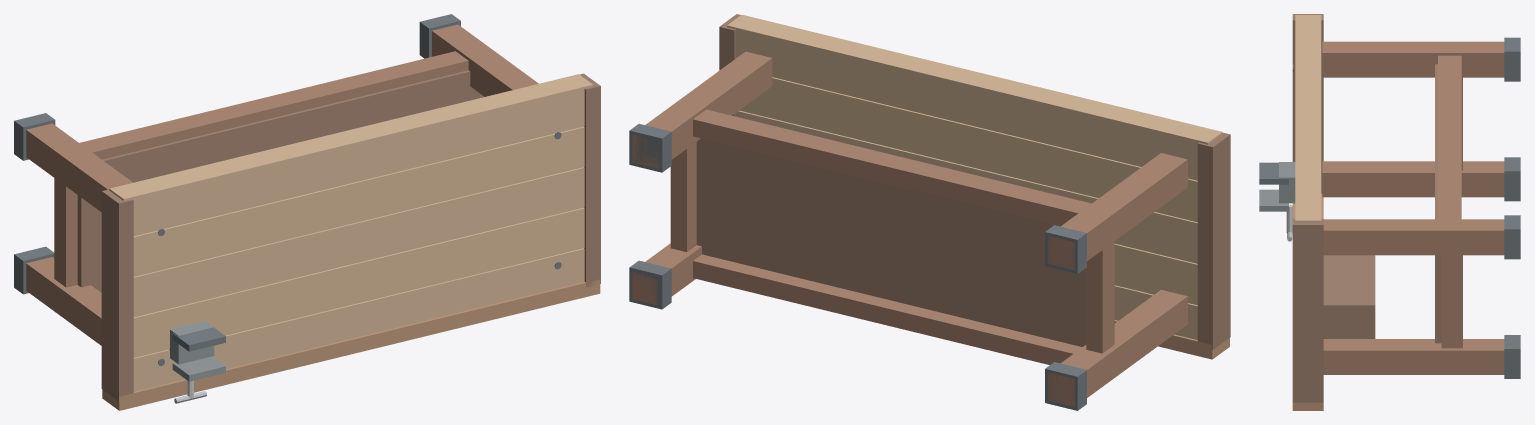
Rendered from 01_wooden_workbench.glb.
The picture shows the model from 3 angles, left to right: view 1: azimuth 30°, elevation 25°; view 2: azimuth 150°, elevation 25°; view 3: azimuth 270°, elevation 25°; orthographic projection. The views are drawn at different scales.
Visible parts, largest first — view 1: tabletop_plank_0018, tabletop_plank_0016, tabletop_plank_0017, tabletop_plank_0015, tabletop_plank_0014, lower_shelf_0013, rear_stretcher_0009, tabletop_front_nosing_0019, top_side_nosing_left_0020, squared_oak_leg_0003, top_side_nosing_right_0021, squared_oak_leg_0007 (+8 smaller); view 2: lower_shelf_0013, tabletop_plank_0018, tabletop_plank_0017, rear_stretcher_0009, front_stretcher_0010, top_side_nosing_left_0020, squared_oak_leg_0003, squared_oak_leg_0001, squared_oak_leg_0007, tabletop_plank_0016, tabletop_plank_0015, end_stretcher_left_0011 (+9 smaller); view 3: squared_oak_leg_0007, squared_oak_leg_0005, squared_oak_leg_0003, top_side_nosing_right_0021, squared_oak_leg_0001, tabletop_plank_0018, drawer_body_0026, rear_stretcher_0009, end_stretcher_right_0012, lower_shelf_0013, top_side_nosing_left_0020, steel_foot_plate_0002 (+7 smaller).
Boxes of the visible parts, x1=… form: tabletop_plank_0018: x1=109, y1=74, x2=593, y2=236; tabletop_plank_0016: x1=133, y1=167, x2=584, y2=317; tabletop_plank_0017: x1=133, y1=126, x2=584, y2=276; tabletop_plank_0015: x1=133, y1=207, x2=584, y2=357; tabletop_plank_0014: x1=133, y1=248, x2=584, y2=391; lower_shelf_0013: x1=77, y1=70, x2=479, y2=292; rear_stretcher_0009: x1=79, y1=51, x2=468, y2=159; tabletop_front_nosing_0019: x1=102, y1=279, x2=600, y2=410; top_side_nosing_left_0020: x1=101, y1=189, x2=133, y2=401; squared_oak_leg_0003: x1=26, y1=123, x2=132, y2=211; top_side_nosing_right_0021: x1=580, y1=73, x2=600, y2=287; squared_oak_leg_0007: x1=432, y1=24, x2=538, y2=96; lower_shelf_0013: x1=696, y1=138, x2=1086, y2=346; tabletop_plank_0018: x1=727, y1=14, x2=1222, y2=180; tabletop_plank_0017: x1=739, y1=77, x2=1197, y2=222; rear_stretcher_0009: x1=693, y1=109, x2=1091, y2=225; front_stretcher_0010: x1=693, y1=254, x2=1082, y2=364; top_side_nosing_left_0020: x1=1197, y1=132, x2=1230, y2=349; squared_oak_leg_0003: x1=1048, y1=153, x2=1187, y2=269; squared_oak_leg_0001: x1=1048, y1=289, x2=1187, y2=406; squared_oak_leg_0007: x1=632, y1=51, x2=772, y2=168; tabletop_plank_0016: x1=735, y1=110, x2=1197, y2=263; tabletop_plank_0015: x1=1114, y1=244, x2=1197, y2=305; end_stretcher_left_0011: x1=1086, y1=241, x2=1114, y2=353; squared_oak_leg_0007: x1=1323, y1=219, x2=1504, y2=255; squared_oak_leg_0005: x1=1323, y1=339, x2=1504, y2=374; squared_oak_leg_0003: x1=1322, y1=41, x2=1504, y2=77; top_side_nosing_right_0021: x1=1292, y1=218, x2=1323, y2=402; squared_oak_leg_0001: x1=1322, y1=161, x2=1504, y2=197; tabletop_plank_0018: x1=1295, y1=15, x2=1321, y2=222; drawer_body_0026: x1=1323, y1=255, x2=1375, y2=338; rear_stretcher_0009: x1=1438, y1=55, x2=1461, y2=219; end_stretcher_right_0012: x1=1441, y1=255, x2=1462, y2=348; lower_shelf_0013: x1=1435, y1=64, x2=1441, y2=343; top_side_nosing_left_0020: x1=1292, y1=14, x2=1323, y2=193; steel_foot_plate_0002: x1=1504, y1=157, x2=1520, y2=201.
Bounding box in the file's own units: 2.12 × 0.9355 × 1.11.
